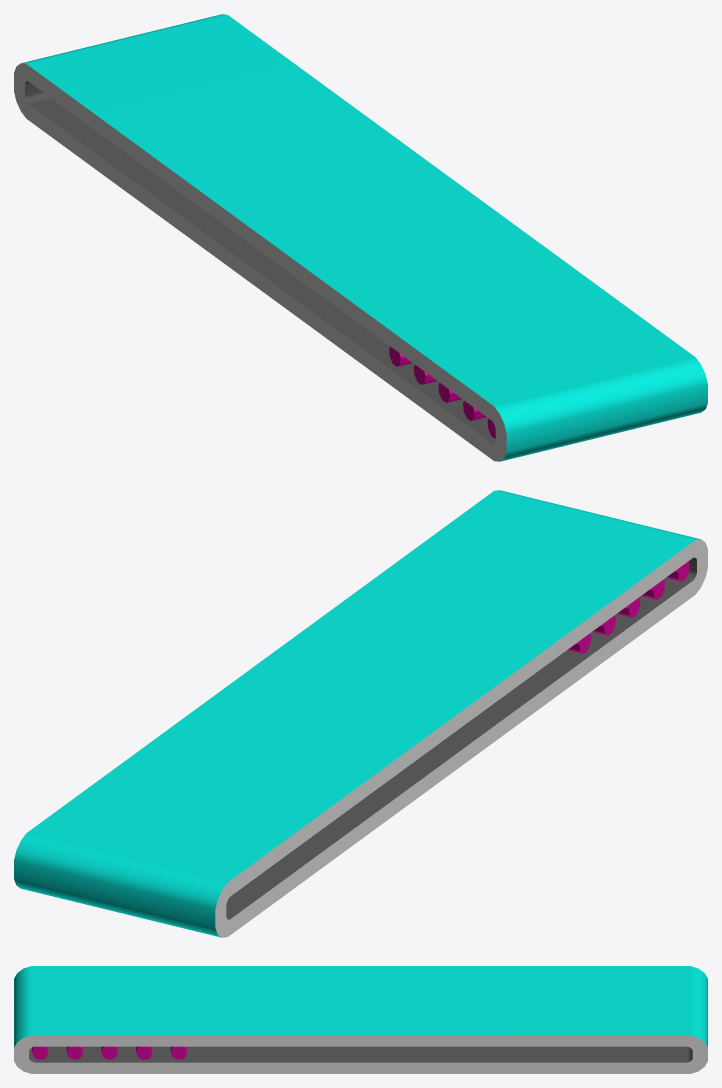
Rendered from conveyorBelt.fbx.
3 renders of one model, top to bottom at view 1: azimuth 30°, elevation 25°; view 2: azimuth 150°, elevation 25°; view 3: azimuth 270°, elevation 25°, orthographic. The views are drawn at different scales.
Visible parts, largest first — view 1: conveyorBelt; view 2: conveyorBelt; view 3: conveyorBelt.
Part boxes in pixels (x1,y1,x2,y2): conveyorBelt: (14, 14, 707, 461); conveyorBelt: (14, 490, 707, 937); conveyorBelt: (14, 966, 707, 1073).
Size of the model in its own units: 1.18 by 0.3067 by 5.
